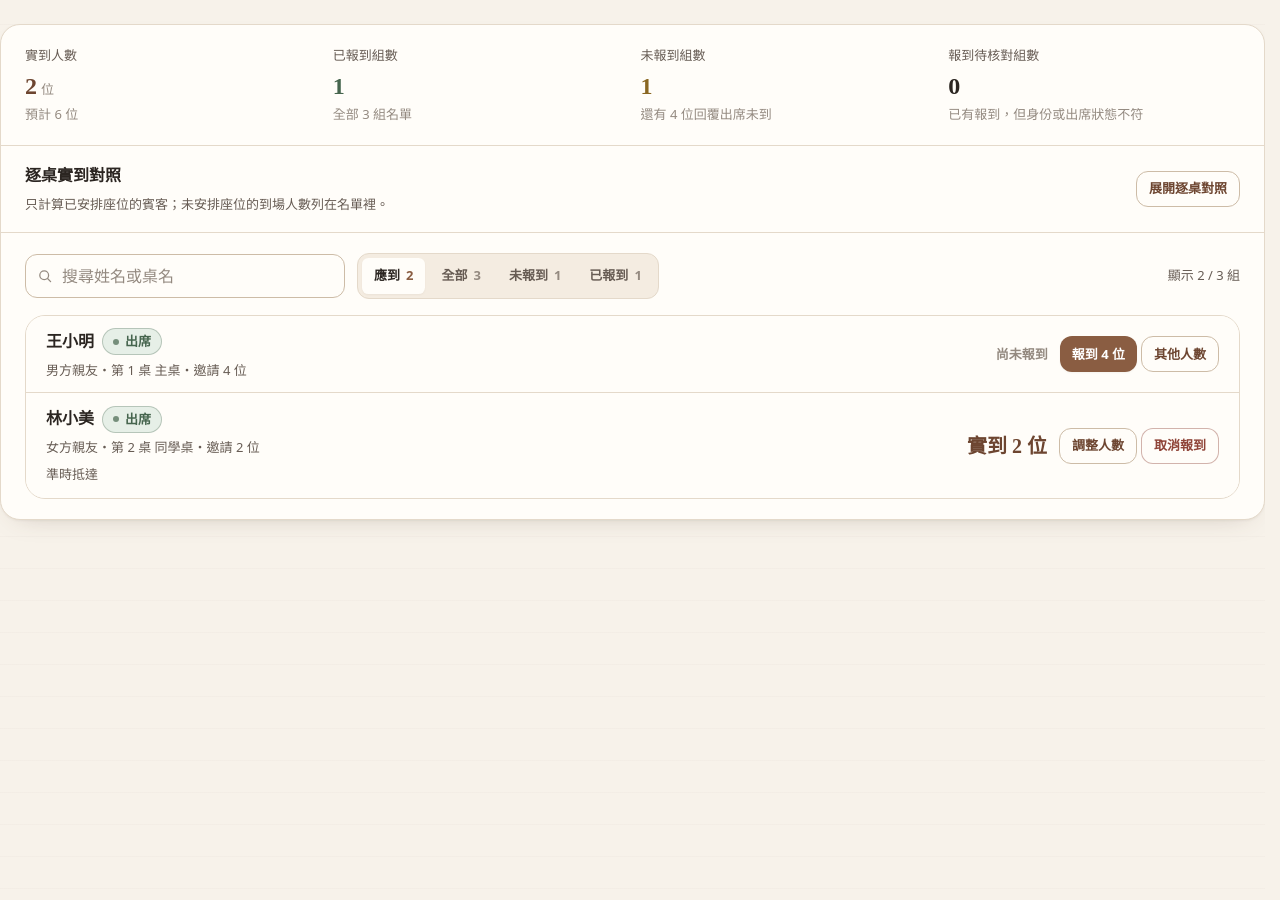
Test case: GuestCheckInBoard › cancels a check-in with the expected version and restores the pending count
The image size is (1280, 900).
Click the button "取消報到" at (1180, 446), box top-left (1141, 428), bottom-right (1219, 464)
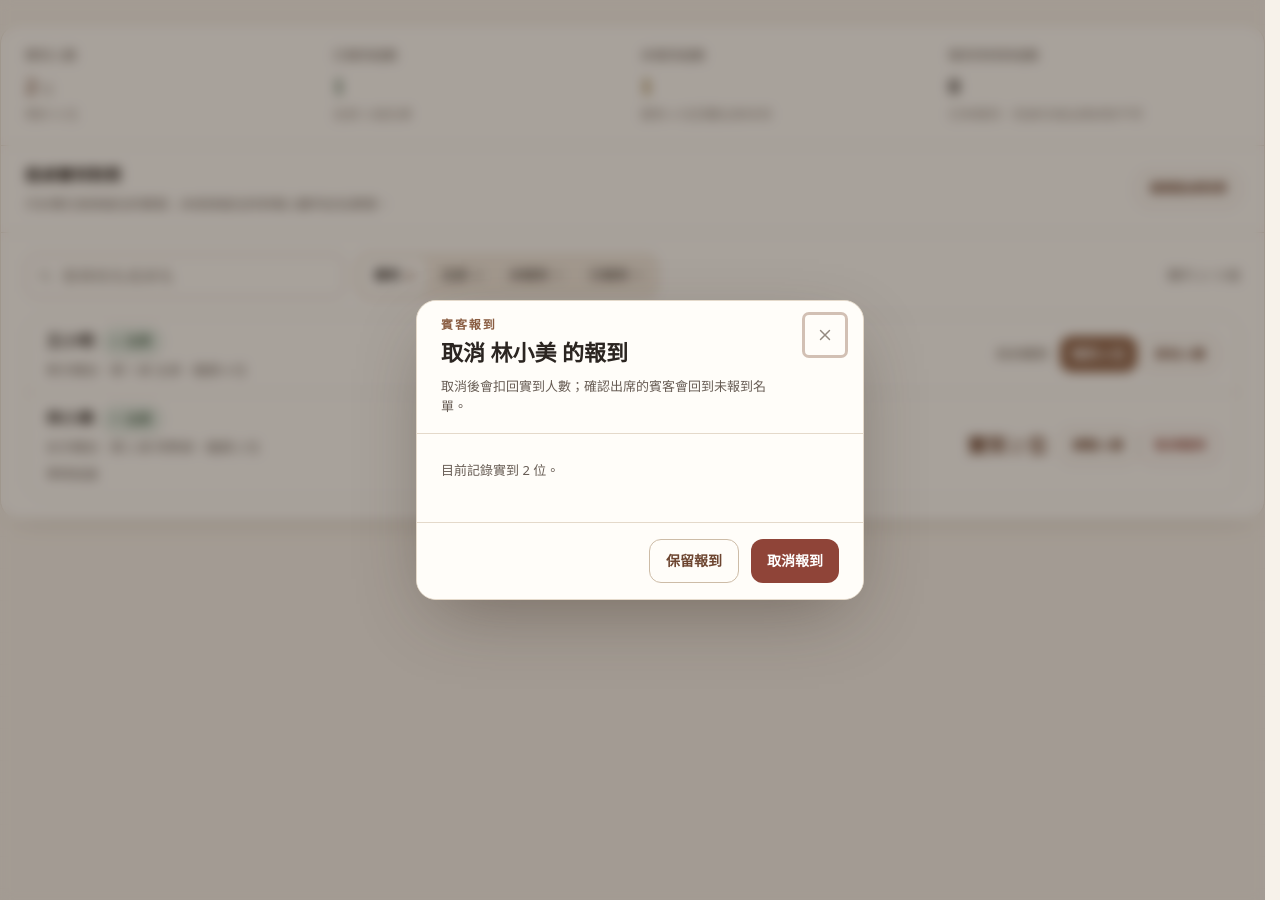
Submit the form named "取消 林小美 的報到表單", box top-left (417, 434), bottom-right (863, 599)
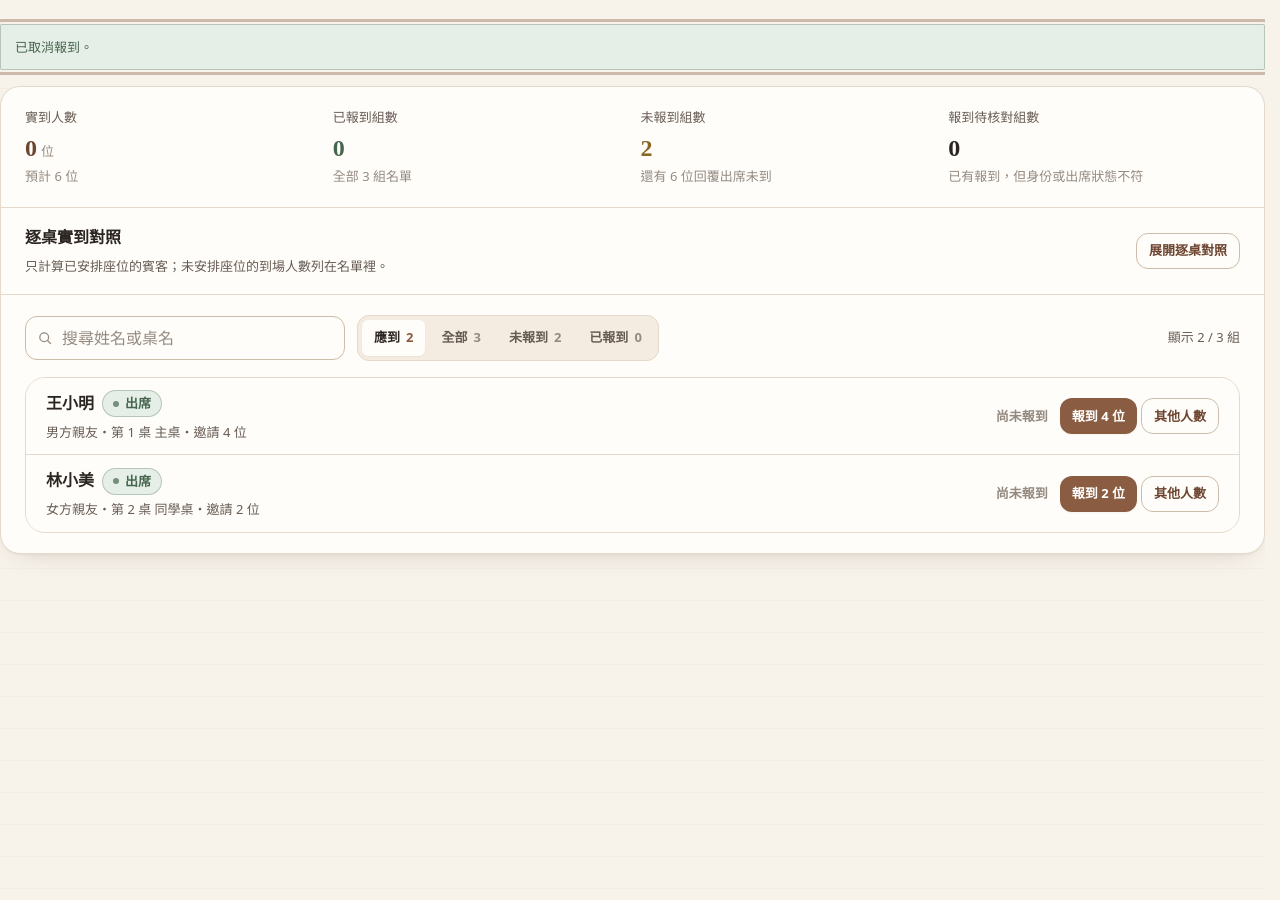
Now the message reads "已取消報到。", box top-left (15, 38), bottom-right (93, 56)
Now the element showing "2" is shown, box top-left (640, 135), bottom-right (652, 161)
